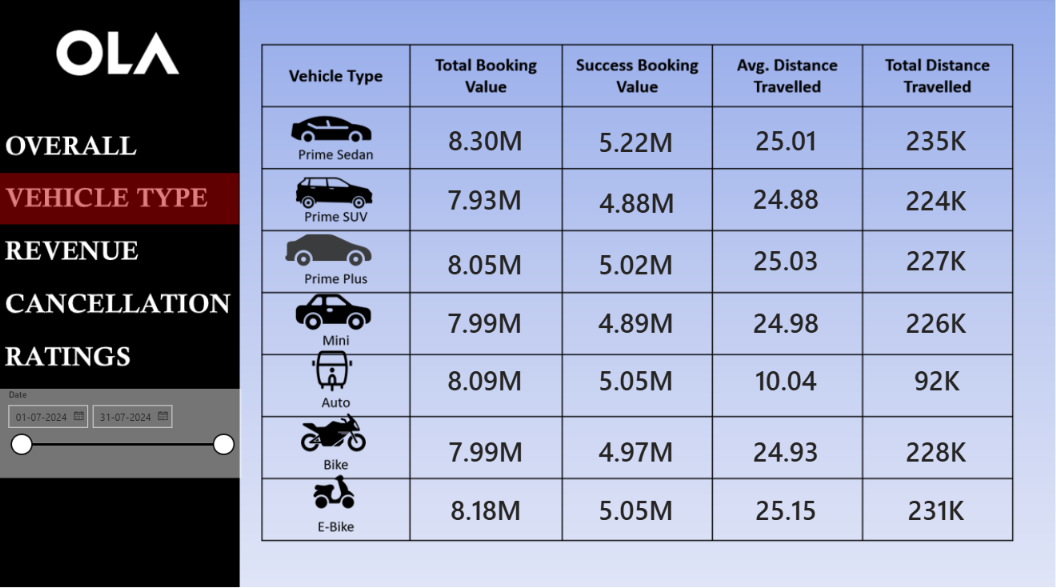

This screenshot's page, from the dashboard's own definition file:
{"tool":"powerbi","page":{"name":"vehicle type","canvas":[1280,720],"ordinal":1},"visuals":[{"type":"actionButton","box":[1.4,277.2,295,68.6],"z":0},{"type":"actionButton","box":[0,345.8,295,68.6],"z":1000},{"type":"actionButton","box":[0,403.4,295,68.6],"z":2000},{"type":"actionButton","box":[0,141.3,295,68.6],"z":3000},{"type":"cardVisual","fields":{"Data":["Sum(July.Booking_Value)"]},"box":[500,134.8,180.9,70],"z":4000},{"type":"cardVisual","fields":{"Data":["Sum(July.Booking_Value)"]},"box":[498.3,206.7,181.7,70],"z":5000},{"type":"cardVisual","fields":{"Data":["Sum(July.Booking_Value)"]},"box":[498.3,285,181.7,70],"z":6000},{"type":"cardVisual","fields":{"Data":["Sum(July.Booking_Value)"]},"box":[498.3,355,181.7,70],"z":7000},{"type":"cardVisual","fields":{"Data":["Sum(July.Booking_Value)"]},"box":[498.3,425,181.7,70],"z":8000},{"type":"cardVisual","fields":{"Data":["Sum(July.Booking_Value)"]},"box":[500,510,181.7,70],"z":9000},{"type":"cardVisual","fields":{"Data":["Sum(July.Booking_Value)"]},"box":[500,580,181.7,70],"z":10000},{"type":"cardVisual","fields":{"Data":["Sum(July.Booking_Value)"]},"box":[680,136.2,181.2,70],"z":11000},{"type":"cardVisual","fields":{"Data":["Sum(July.Booking_Value)"]},"box":[681.2,210,181.2,70],"z":12000},{"type":"cardVisual","fields":{"Data":["Sum(July.Booking_Value)"]},"box":[680,285,181.2,70],"z":13000},{"type":"cardVisual","fields":{"Data":["Sum(July.Booking_Value)"]},"box":[680,355,181.2,70],"z":14000},{"type":"cardVisual","fields":{"Data":["Sum(July.Booking_Value)"]},"box":[680,425,181.2,70],"z":15000},{"type":"cardVisual","fields":{"Data":["Sum(July.Booking_Value)"]},"box":[680,510,181.2,70],"z":16000},{"type":"cardVisual","fields":{"Data":["Sum(July.Booking_Value)"]},"box":[680,580,181.2,70],"z":17000},{"type":"cardVisual","fields":{"Data":["Avg(July.Ride_Distance)"]},"box":[861.2,135,181.2,70],"z":18000},{"type":"cardVisual","fields":{"Data":["Avg(July.Ride_Distance)"]},"box":[861.2,205,181.2,70],"z":19000},{"type":"cardVisual","fields":{"Data":["Avg(July.Ride_Distance)"]},"box":[861.2,280,181.2,70],"z":20000},{"type":"cardVisual","fields":{"Data":["Avg(July.Ride_Distance)"]},"box":[861.2,355,181.2,70],"z":21000},{"type":"cardVisual","fields":{"Data":["Avg(July.Ride_Distance)"]},"box":[861.2,425,181.2,70],"z":22000},{"type":"cardVisual","fields":{"Data":["Avg(July.Ride_Distance)"]},"box":[861.2,510,181.2,70],"z":23000},{"type":"cardVisual","fields":{"Data":["Avg(July.Ride_Distance)"]},"box":[861.2,580,181.2,70],"z":24000},{"type":"cardVisual","fields":{"Data":["Sum(July.Ride_Distance)"]},"box":[1042.5,135,181.2,70],"z":25000},{"type":"cardVisual","fields":{"Data":["Sum(July.Ride_Distance)"]},"box":[1042.5,207.5,181.2,70],"z":26000},{"type":"cardVisual","fields":{"Data":["Sum(July.Ride_Distance)"]},"box":[1042.5,280,181.2,70],"z":27000},{"type":"cardVisual","fields":{"Data":["Sum(July.Ride_Distance)"]},"box":[1042.5,355,181.2,70],"z":28000},{"type":"cardVisual","fields":{"Data":["Sum(July.Ride_Distance)"]},"box":[1043.8,425,181.2,70],"z":29000},{"type":"cardVisual","fields":{"Data":["Sum(July.Ride_Distance)"]},"box":[1042.5,510,181.2,70],"z":30000},{"type":"cardVisual","fields":{"Data":["Sum(July.Ride_Distance)"]},"box":[1042.5,580,181.2,70],"z":31000},{"type":"slicer","fields":{"Values":["July.Date"]},"box":[1.7,471.7,293.3,108.3],"z":32000}]}

Visuals, with their boxes in screenshot pixels (x1, y1, x2, y2), scaled from the page's 1280x720 canvas onto the 1056x588 screenshot:
actionButton: 1,226,245,282
actionButton: 0,282,243,338
actionButton: 0,329,243,385
actionButton: 0,115,243,171
cardVisual - Sum(July.Booking_Value): 412,110,562,167
cardVisual - Sum(July.Booking_Value): 411,169,561,226
cardVisual - Sum(July.Booking_Value): 411,233,561,290
cardVisual - Sum(July.Booking_Value): 411,290,561,347
cardVisual - Sum(July.Booking_Value): 411,347,561,404
cardVisual - Sum(July.Booking_Value): 412,416,562,474
cardVisual - Sum(July.Booking_Value): 412,474,562,531
cardVisual - Sum(July.Booking_Value): 561,111,710,168
cardVisual - Sum(July.Booking_Value): 562,172,711,229
cardVisual - Sum(July.Booking_Value): 561,233,710,290
cardVisual - Sum(July.Booking_Value): 561,290,710,347
cardVisual - Sum(July.Booking_Value): 561,347,710,404
cardVisual - Sum(July.Booking_Value): 561,416,710,474
cardVisual - Sum(July.Booking_Value): 561,474,710,531
cardVisual - Avg(July.Ride_Distance): 710,110,860,167
cardVisual - Avg(July.Ride_Distance): 710,167,860,225
cardVisual - Avg(July.Ride_Distance): 710,229,860,286
cardVisual - Avg(July.Ride_Distance): 710,290,860,347
cardVisual - Avg(July.Ride_Distance): 710,347,860,404
cardVisual - Avg(July.Ride_Distance): 710,416,860,474
cardVisual - Avg(July.Ride_Distance): 710,474,860,531
cardVisual - Sum(July.Ride_Distance): 860,110,1010,167
cardVisual - Sum(July.Ride_Distance): 860,169,1010,227
cardVisual - Sum(July.Ride_Distance): 860,229,1010,286
cardVisual - Sum(July.Ride_Distance): 860,290,1010,347
cardVisual - Sum(July.Ride_Distance): 861,347,1011,404
cardVisual - Sum(July.Ride_Distance): 860,416,1010,474
cardVisual - Sum(July.Ride_Distance): 860,474,1010,531
slicer - July.Date: 1,385,243,474
